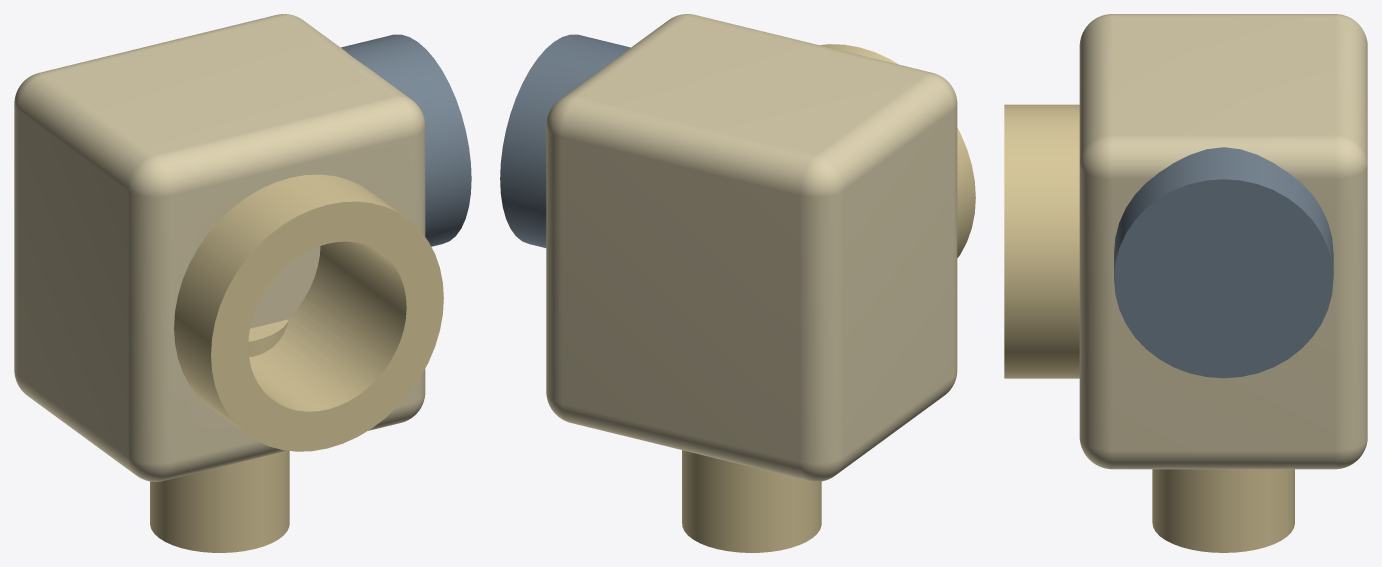
The model's file is VALVE.glb.
The picture shows the model from 3 angles, left to right: view 1: azimuth 30°, elevation 25°; view 2: azimuth 150°, elevation 25°; view 3: azimuth 270°, elevation 25°; orthographic projection. The views are drawn at different scales.
Visible parts, largest first — view 1: VALVE/0000_panel, VALVE/0001_DIN_receiver, VALVE/0002_neck, VALVE/0003_handwheel; view 2: VALVE/0000_panel, VALVE/0002_neck, VALVE/0003_handwheel, VALVE/0001_DIN_receiver; view 3: VALVE/0000_panel, VALVE/0003_handwheel, VALVE/0001_DIN_receiver, VALVE/0002_neck.
Boxes of the visible parts, box(x1,y1,x2,y2) form: VALVE/0000_panel: box(14, 14, 425, 481); VALVE/0001_DIN_receiver: box(174, 174, 443, 451); VALVE/0002_neck: box(150, 319, 289, 552); VALVE/0003_handwheel: box(341, 34, 471, 246); VALVE/0000_panel: box(546, 14, 957, 481); VALVE/0002_neck: box(682, 450, 821, 552); VALVE/0003_handwheel: box(500, 34, 630, 247); VALVE/0001_DIN_receiver: box(820, 44, 975, 257); VALVE/0000_panel: box(1079, 14, 1367, 469); VALVE/0003_handwheel: box(1114, 147, 1333, 378); VALVE/0001_DIN_receiver: box(1004, 104, 1079, 378); VALVE/0002_neck: box(1152, 469, 1294, 552).
Size of the model in its own units: 0.074 by 0.0898 by 0.0662.
